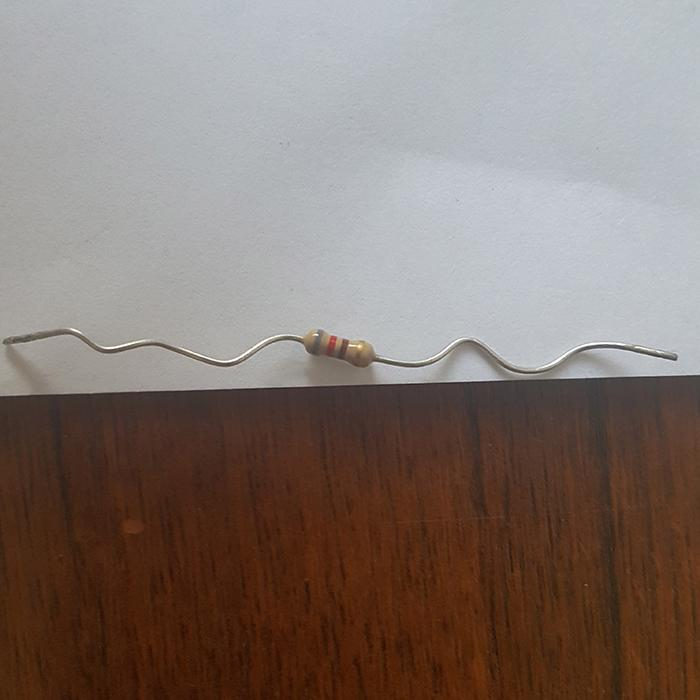resistor: (303, 328, 375, 367)
